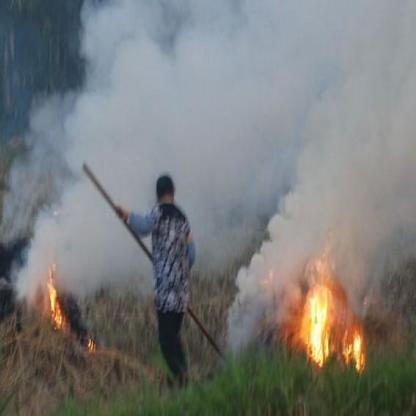fire: (284, 244, 368, 373), (40, 267, 62, 330), (262, 264, 276, 290), (83, 337, 95, 351)
smoke: (16, 29, 234, 281), (244, 26, 406, 281)
